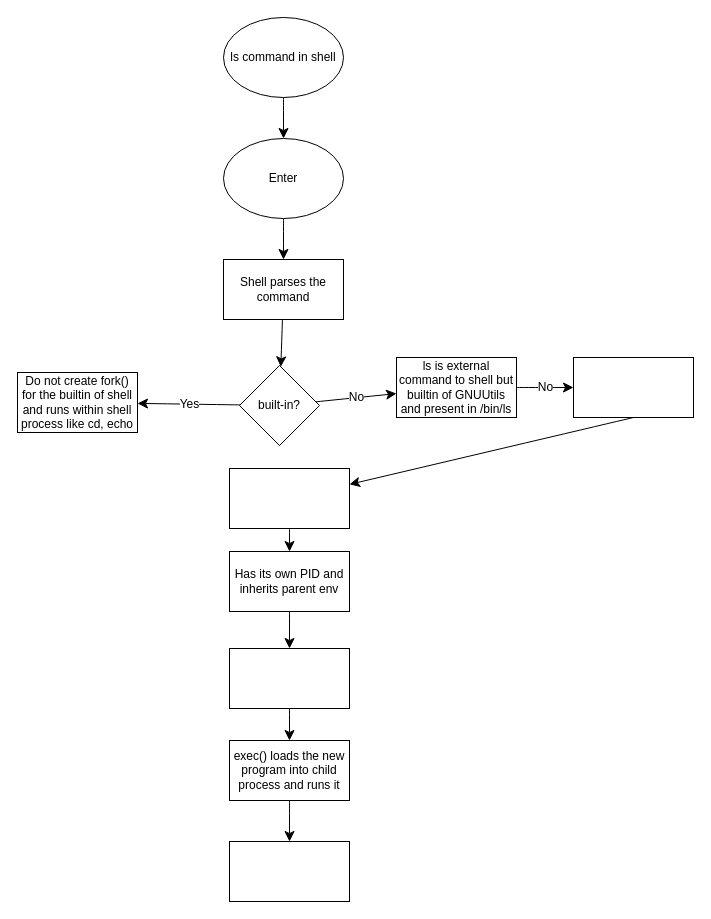
The diagram is 711 pixels wide and 919 high, and some of its shapes have lost their labels. Here are the shapes that lost their labels. From the top down, the centre of each, then its label:
[633,387]: search for ls binary in sys directories listed in PATH env variable
[289,498]: Syscall - fork() - create child process
[289,678]: Syscall - exec()- replaces its memory space with external program (ls)
[289,871]: Parent shell waits for child to finish execution using wait()
